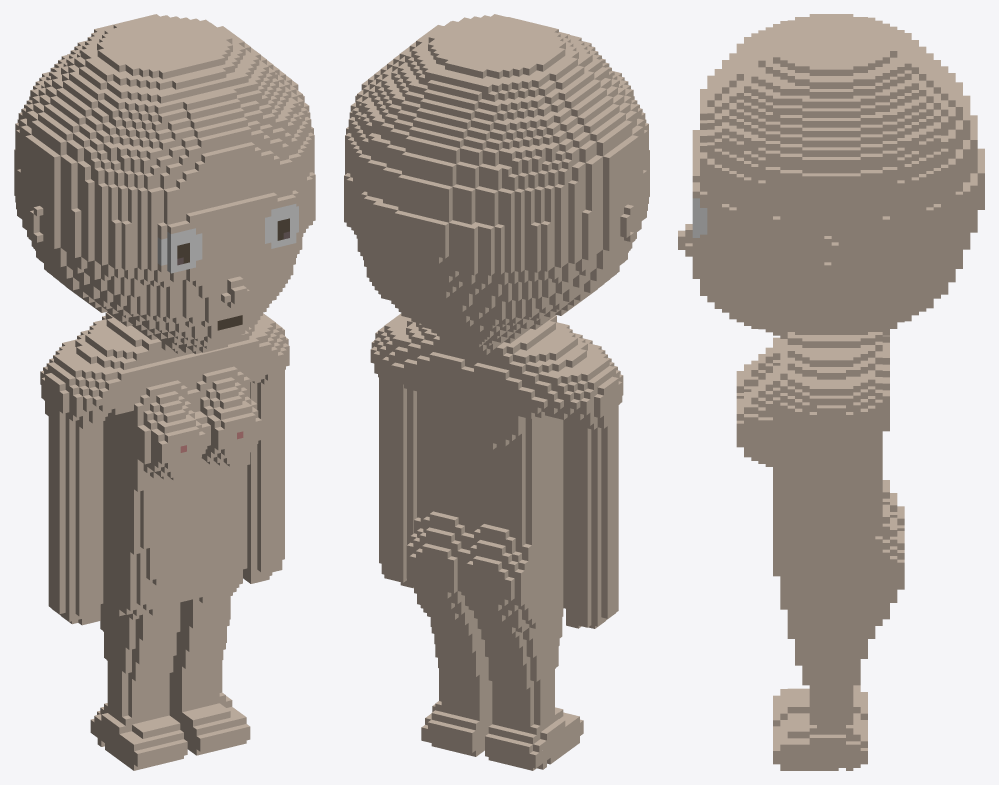
The model's file is fem.glb.
The picture shows the model from 3 angles, left to right: view 1: azimuth 30°, elevation 25°; view 2: azimuth 150°, elevation 25°; view 3: azimuth 270°, elevation 25°; orthographic projection.
Size of the model in its own units: 0.6562 by 1.66 by 0.6562.
